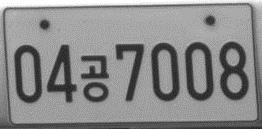0: (12, 43, 43, 104), (150, 42, 181, 102), (184, 41, 215, 101)
4: (45, 44, 78, 103)
7: (113, 42, 146, 102)
8: (218, 40, 251, 101)
공: (78, 53, 110, 102)
